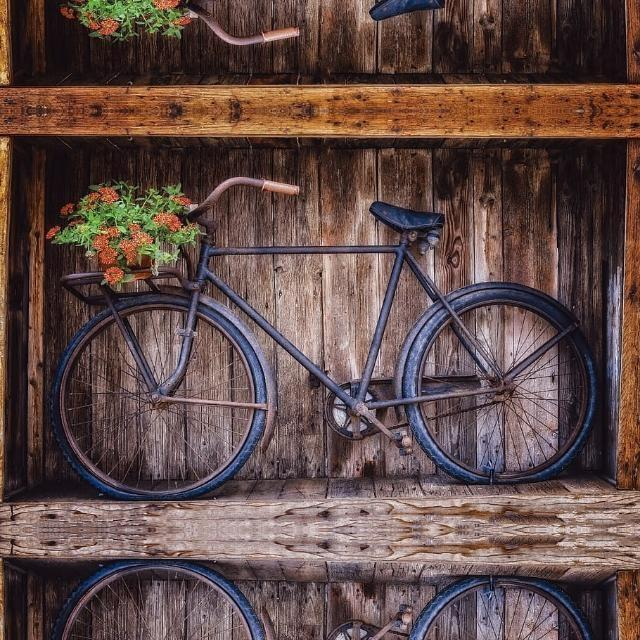obstacle: (27, 159, 616, 506), (26, 551, 615, 640), (26, 0, 615, 60)
